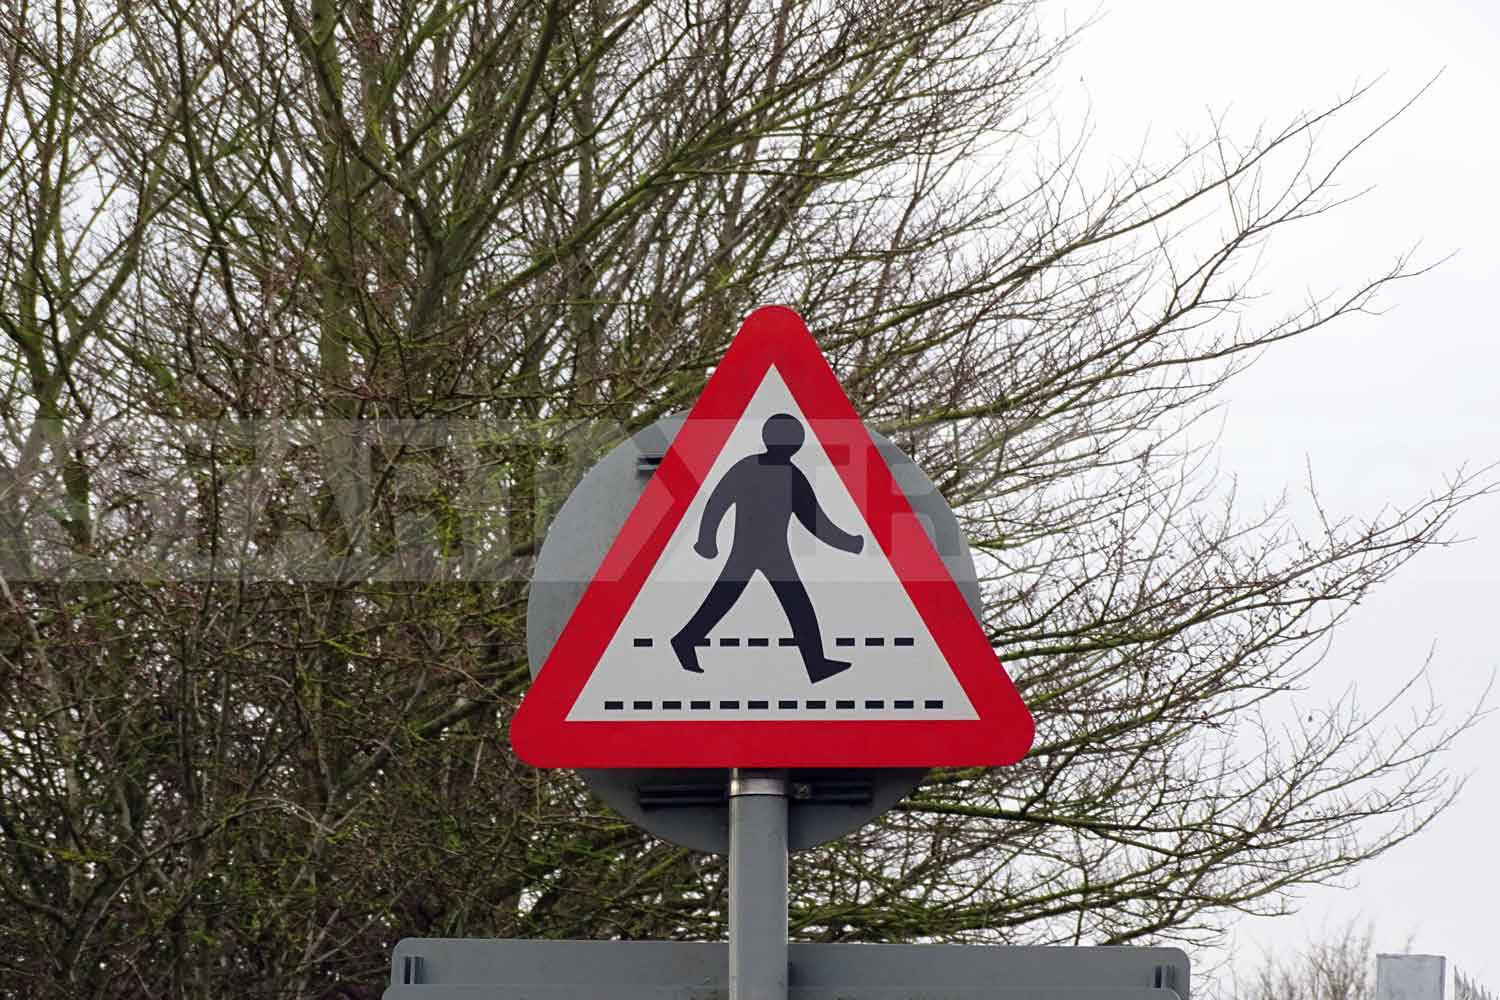pedestrian: (556, 356, 992, 756)
